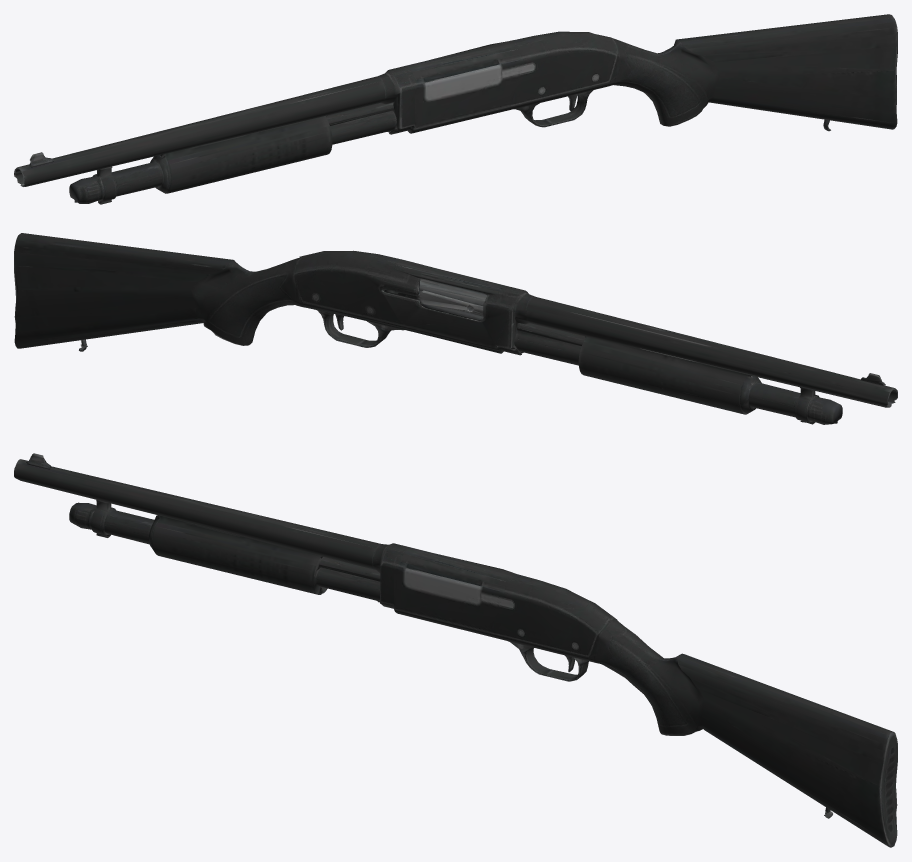
Rendered from arma_pompa.glb.
The picture shows the model from 3 angles, top to bottom: view 1: azimuth 30°, elevation 25°; view 2: azimuth 150°, elevation 25°; view 3: azimuth 330°, elevation 25°; orthographic projection.
Size of the model in its own units: 0.958 by 0.1914 by 0.041.
1 material, 1 textured.
